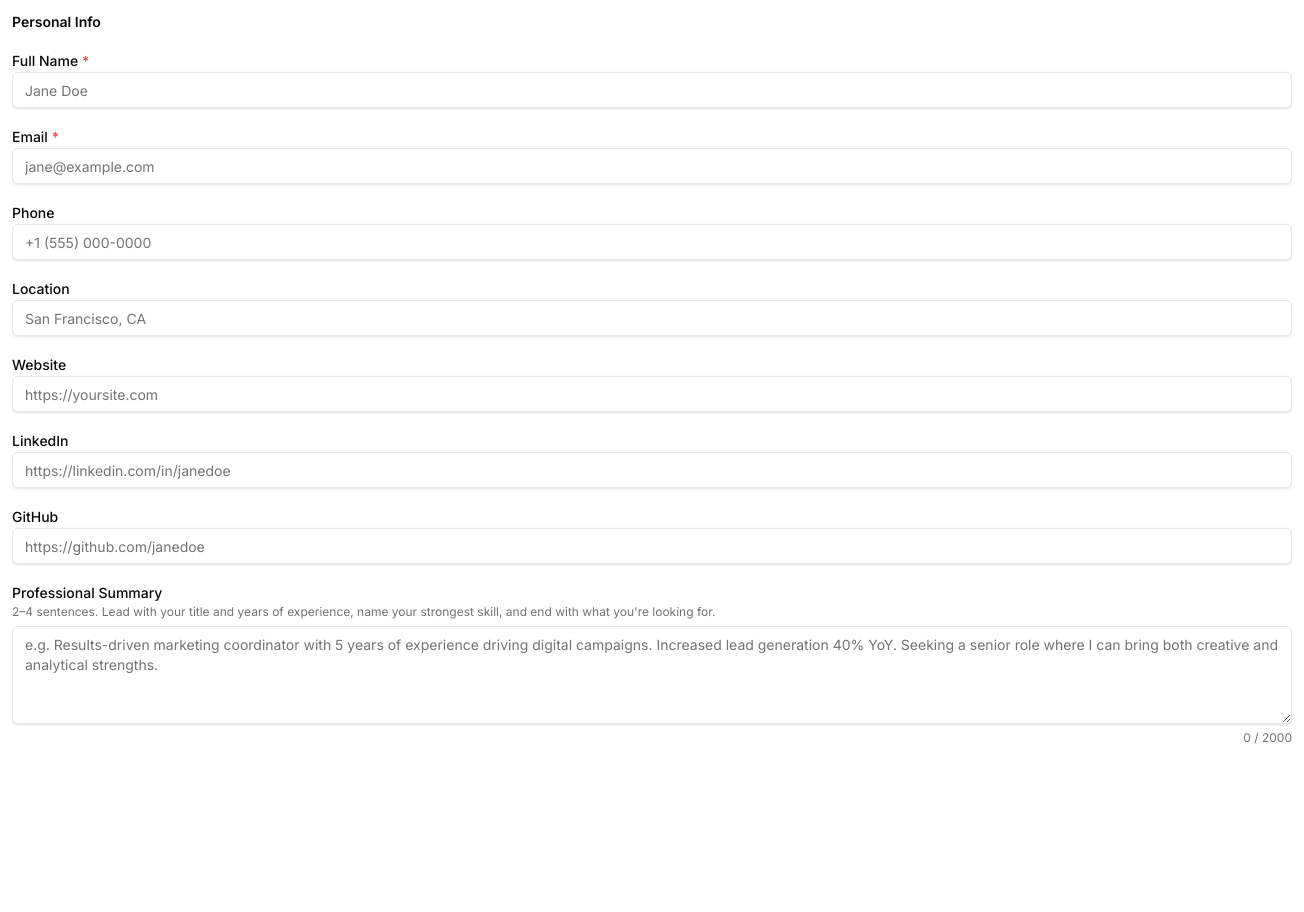
it: PersonalInfoForm — URL field blur validation › shows error when website has invalid URL
Type "not-a-url" into the field with id "website" at (652, 394), box [12,376,1292,412]
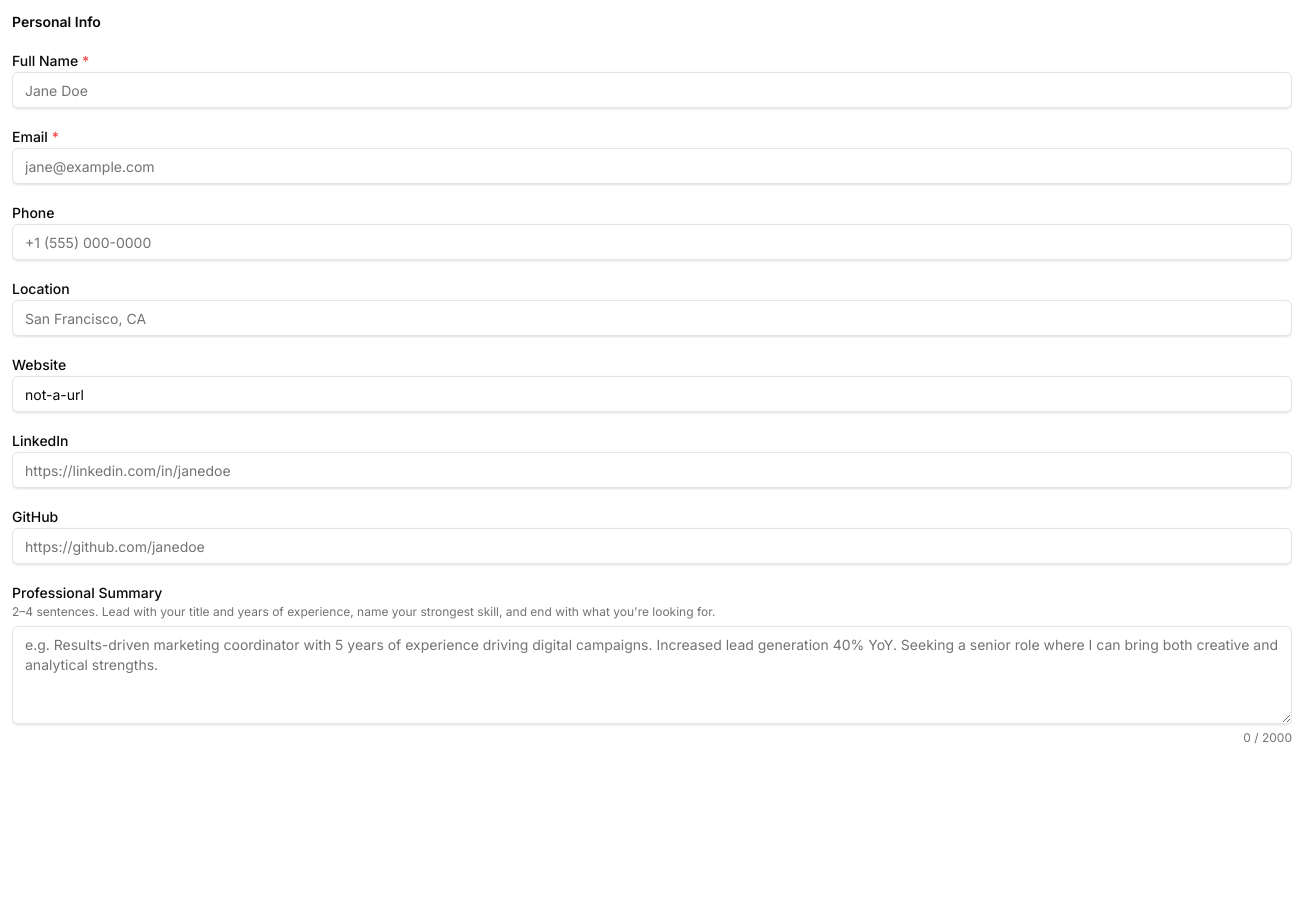
Leave the field with id "website", box [12,376,1292,412]
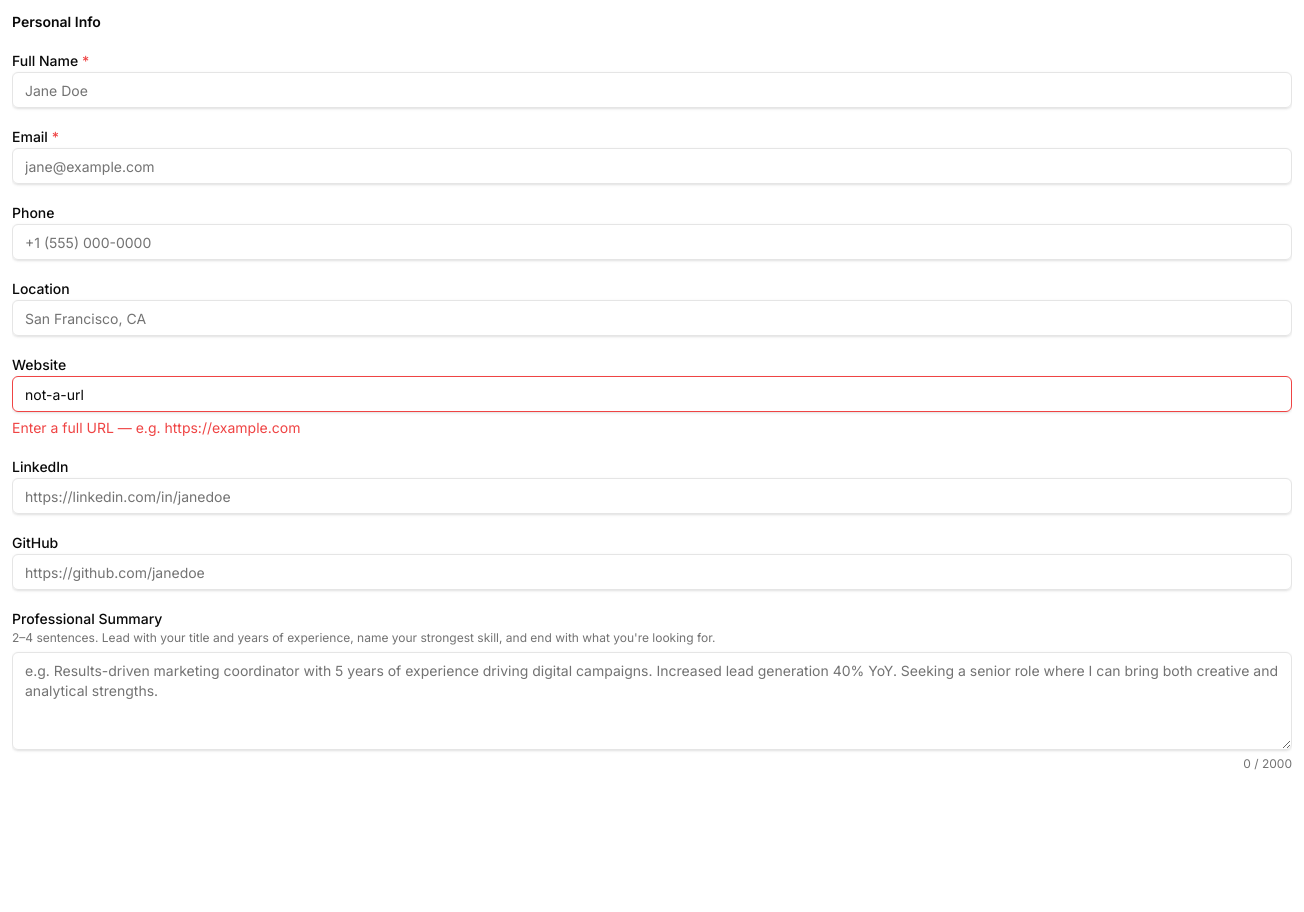
Expected: the text "Enter a full URL — e.g. https://example.com" is shown, [12,419,300,436]
